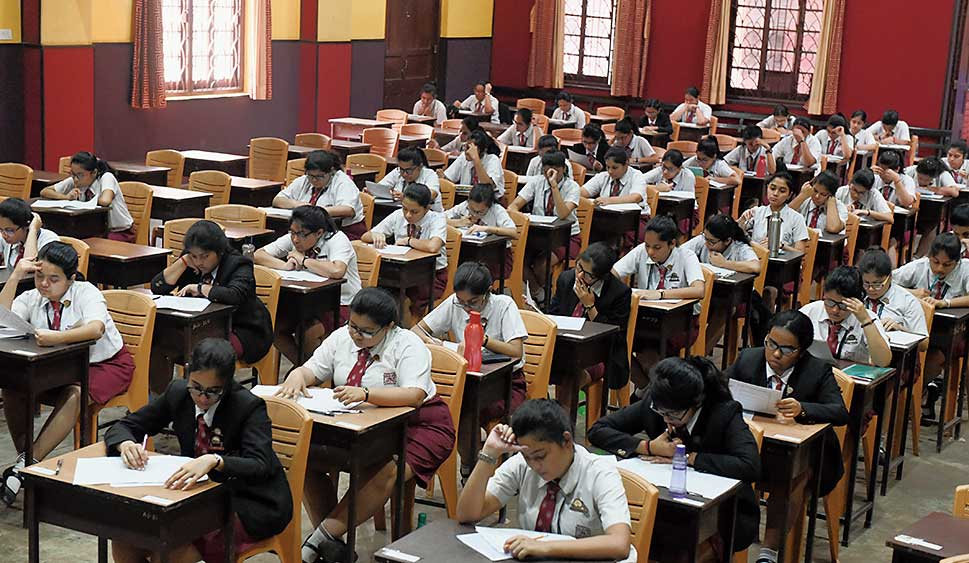student: (287, 293, 481, 458), (123, 350, 292, 532), (419, 420, 633, 550), (584, 344, 770, 482), (714, 307, 842, 442), (414, 261, 527, 384), (811, 265, 900, 390), (134, 233, 255, 313), (247, 202, 369, 279), (362, 180, 446, 260), (501, 152, 589, 228), (578, 146, 642, 217), (439, 189, 513, 240), (639, 141, 700, 202)
